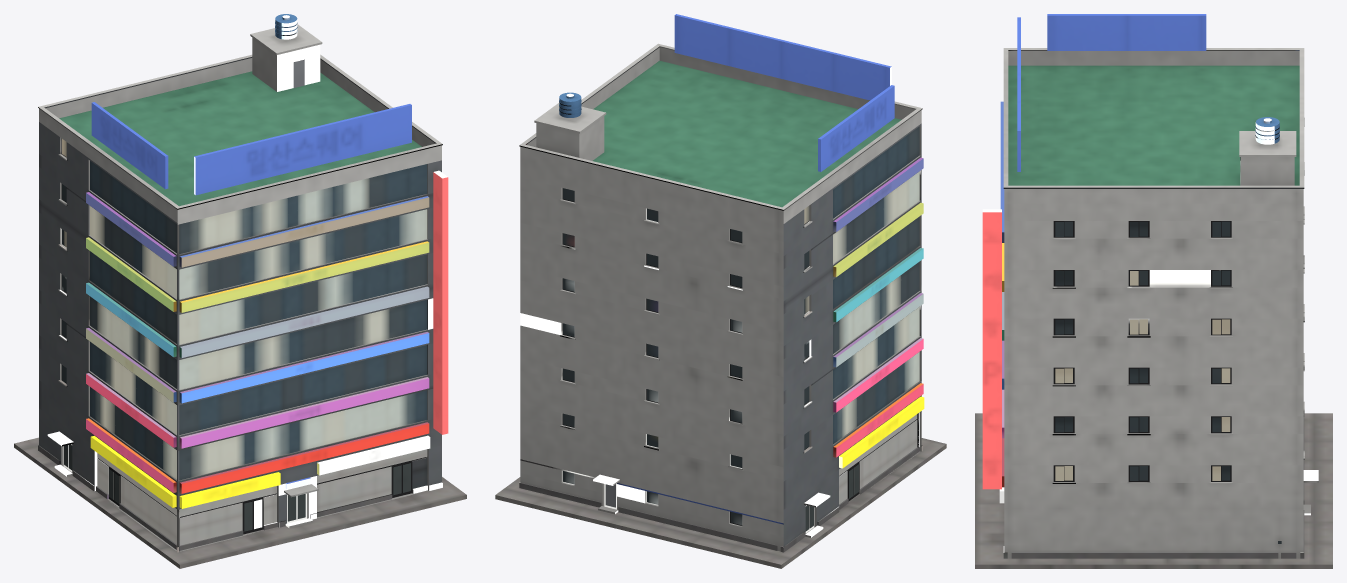
File: IlsanCornerTower01_LOD2.fbx
3 views of the same model, side by side, from view 1: azimuth 30°, elevation 25°; view 2: azimuth 150°, elevation 25°; view 3: azimuth 270°, elevation 25° (orthographic). The views are drawn at different scales.
Parts seen in each view (by area): view 1: IlsanCornerTower01_LOD2; view 2: IlsanCornerTower01_LOD2; view 3: IlsanCornerTower01_LOD2.
Boxes of the visible parts, x1,y1,x2,y2 form: IlsanCornerTower01_LOD2: [14, 14, 466, 568]; IlsanCornerTower01_LOD2: [495, 14, 946, 568]; IlsanCornerTower01_LOD2: [975, 14, 1332, 568].
Size of the model in its own units: 23.95 by 31.35 by 23.9.
1 material, 1 textured.
